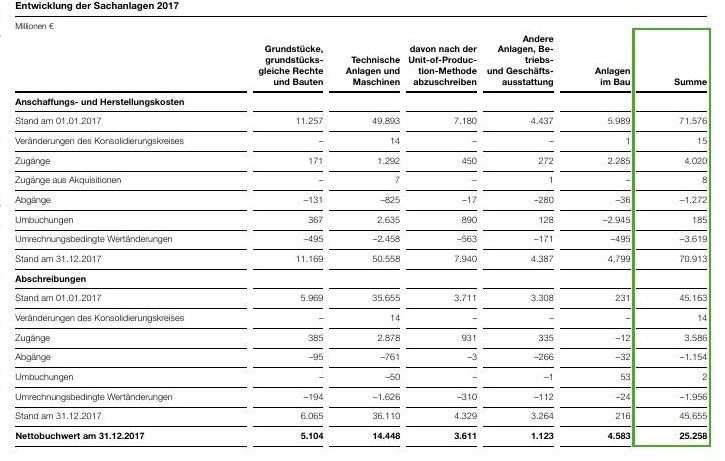table: (0, 0, 725, 461)
